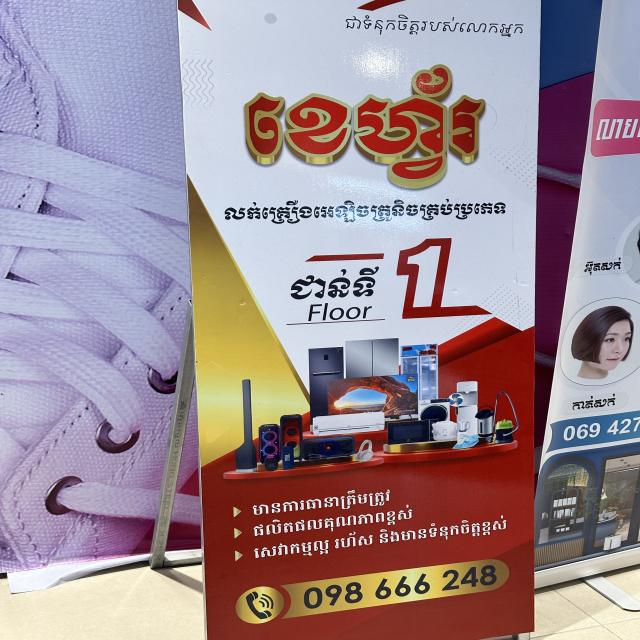2: (247, 512, 514, 566)
487: (291, 558, 498, 617)
893: (276, 231, 461, 323)
Yolov11_80vkh: (215, 65, 499, 191), (217, 194, 515, 229), (247, 502, 417, 541), (244, 480, 399, 520), (323, 11, 533, 40)
